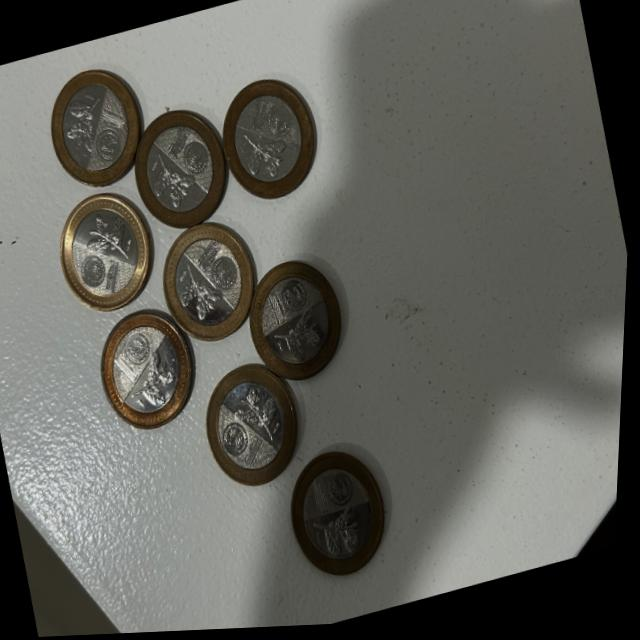20_New_Back: (313, 503, 373, 566), (233, 383, 288, 451), (82, 209, 138, 273), (176, 260, 228, 326), (124, 351, 180, 412), (271, 316, 330, 372), (148, 148, 200, 210), (60, 91, 110, 151), (239, 128, 290, 182)
